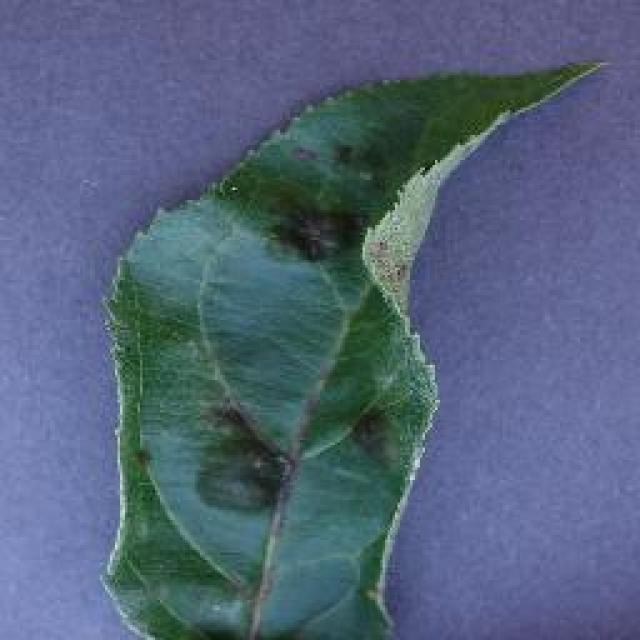apple scab disease: (95, 55, 610, 637)
